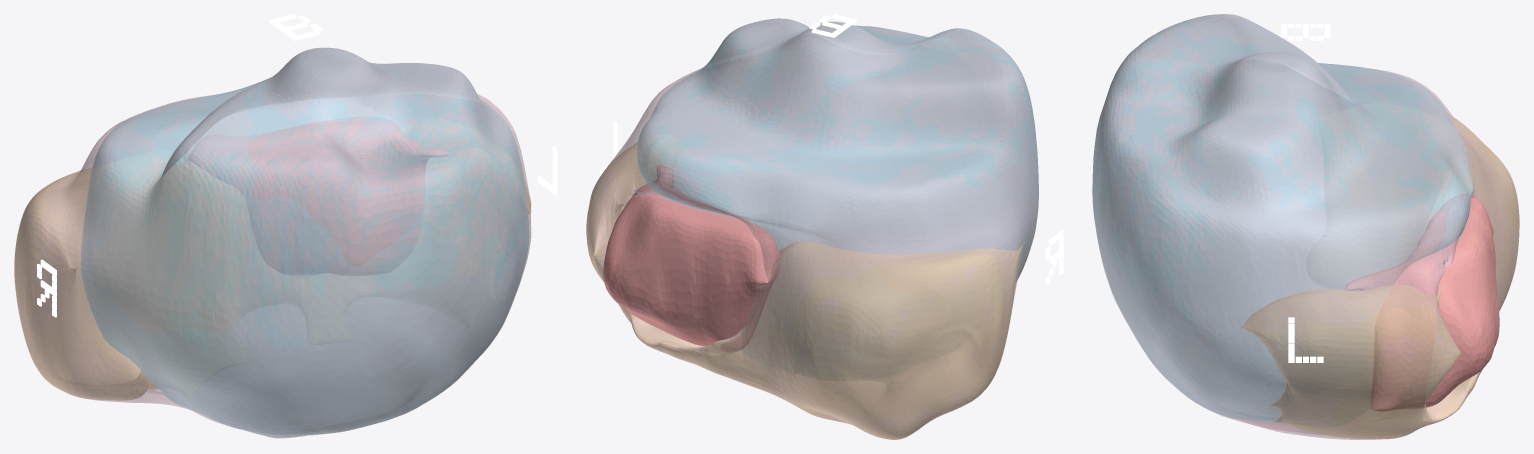
The picture shows the model from 3 angles, left to right: view 1: azimuth 30°, elevation 25°; view 2: azimuth 150°, elevation 25°; view 3: azimuth 270°, elevation 25°; orthographic projection. The views are drawn at different scales.
Visible parts, largest first — view 1: prostate_gland, transition_zone, lesion_01, peripheral_zone, pv_ar_marker_B, pv_ar_marker_R; view 2: prostate_gland, transition_zone, peripheral_zone, lesion_01, pv_ar_marker_B, pv_ar_marker_R; view 3: prostate_gland, transition_zone, peripheral_zone, lesion_01, pv_ar_marker_B, pv_ar_marker_L.
Boxes of the visible parts, left/top/right/bottom form: prostate_gland: left=15, top=47, right=531, bottom=438; transition_zone: left=81, top=48, right=528, bottom=437; lesion_01: left=188, top=117, right=449, bottom=275; peripheral_zone: left=14, top=168, right=531, bottom=400; pv_ar_marker_B: left=268, top=14, right=322, bottom=40; pv_ar_marker_R: left=37, top=259, right=56, bottom=317; prostate_gland: left=586, top=18, right=1038, bottom=439; transition_zone: left=637, top=18, right=1038, bottom=279; peripheral_zone: left=586, top=142, right=1024, bottom=439; lesion_01: left=603, top=165, right=780, bottom=352; pv_ar_marker_B: left=809, top=14, right=857, bottom=37; pv_ar_marker_R: left=1045, top=230, right=1063, bottom=284; prostate_gland: left=1092, top=14, right=1519, bottom=439; transition_zone: left=1092, top=14, right=1473, bottom=421; peripheral_zone: left=1241, top=114, right=1519, bottom=438; lesion_01: left=1345, top=194, right=1499, bottom=411; pv_ar_marker_B: left=1281, top=24, right=1330, bottom=40; pv_ar_marker_L: left=1288, top=317, right=1323, bottom=362.
Size of the model in its own units: 0.0534 by 0.0407 by 0.0411.
